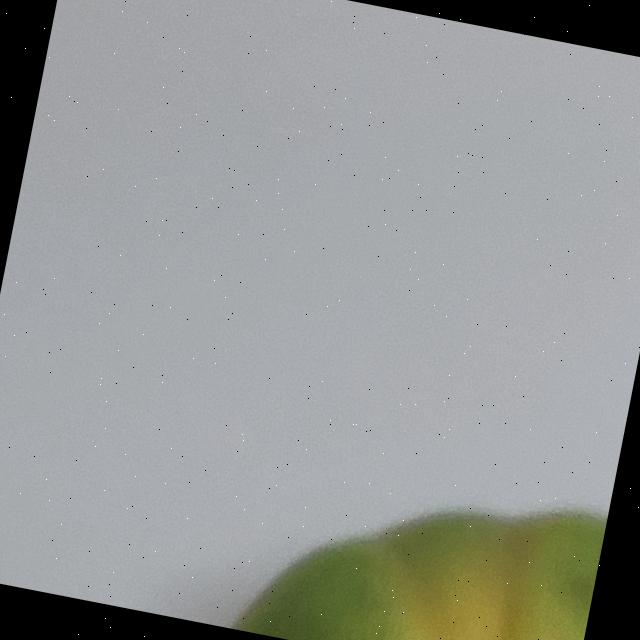tomato: (54, 392, 612, 640)
